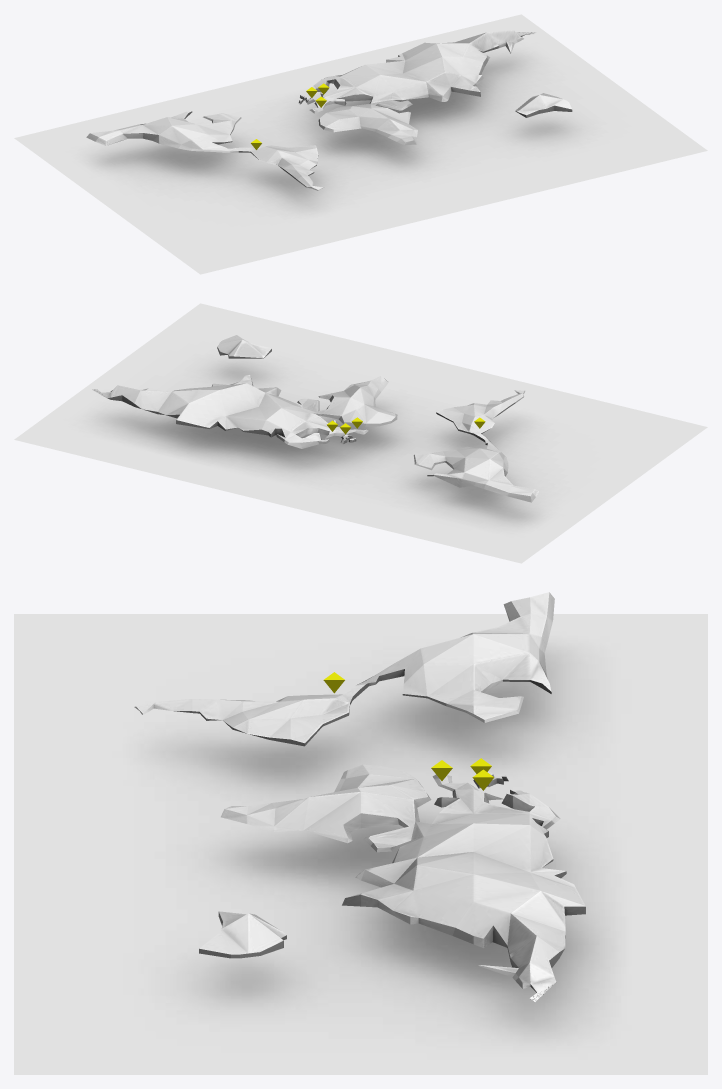
File: world.dae
The picture shows the model from 3 angles, top to bottom: view 1: azimuth 30°, elevation 25°; view 2: azimuth 150°, elevation 25°; view 3: azimuth 270°, elevation 25°; orthographic projection. The views are drawn at different scales.
Parts seen in each view (by area): view 1: pPlane5, world; view 2: pPlane5, world; view 3: pPlane5, world.
Boxes of the visible parts, x1,y1,x2,y2 form: pPlane5: [14, 14, 707, 274]; world: [86, 30, 572, 190]; pPlane5: [14, 303, 707, 563]; world: [92, 335, 538, 502]; pPlane5: [14, 614, 707, 1074]; world: [134, 592, 585, 1001].
Size of the model in its own units: 10.49 by 6.67 by 0.758.
Materials: 3 (2 with a texture image).
